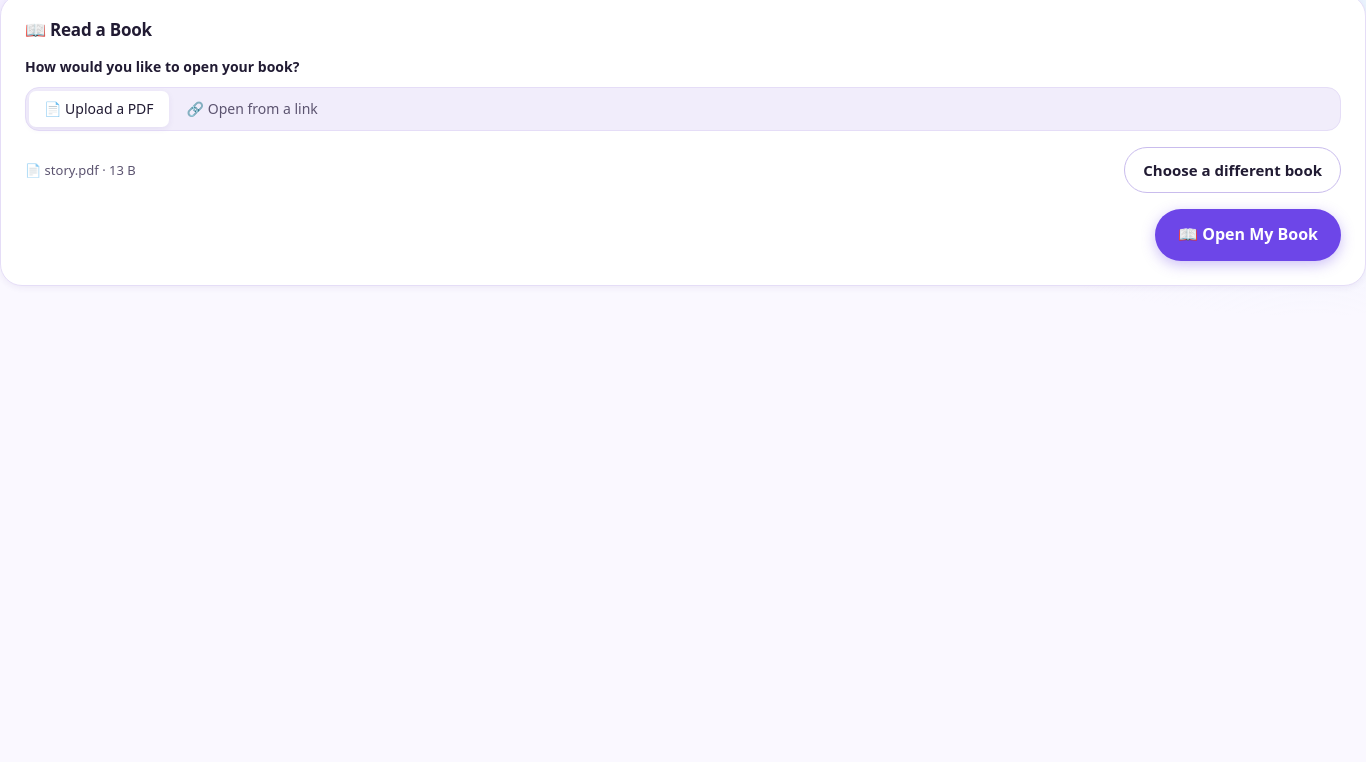
Test: BookReaderForm › narrates the book and shows the playable result
Earlier steps of the test are not shown.
Click the button with test id "load-book-submit" at (1248, 235), box [1155, 209, 1341, 261]
(page scrolled)
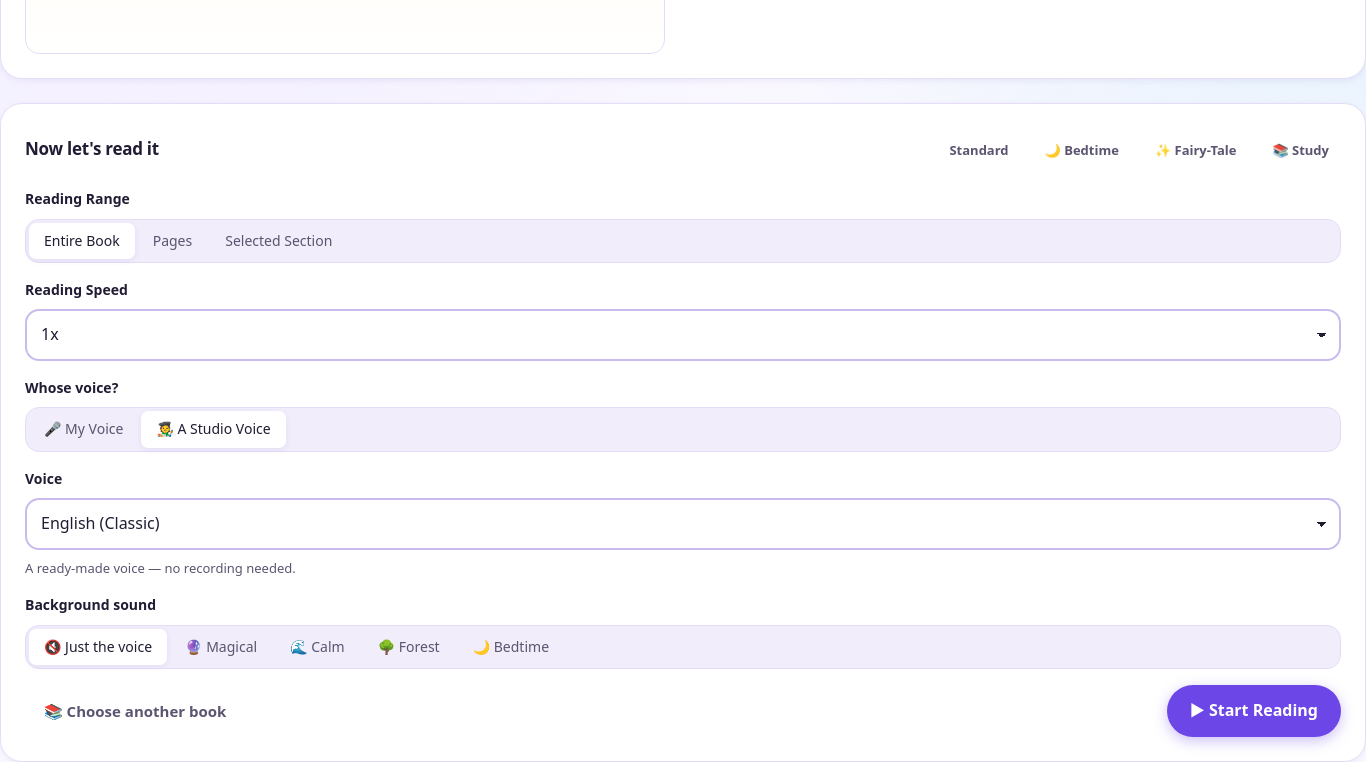
Now the dropdown with test id "default-voice-select" shows "English (Classic)", box [25, 498, 1341, 550]
Click the button with test id "narrate-book-submit" at (1254, 711), box [1167, 685, 1341, 737]
(page scrolled)
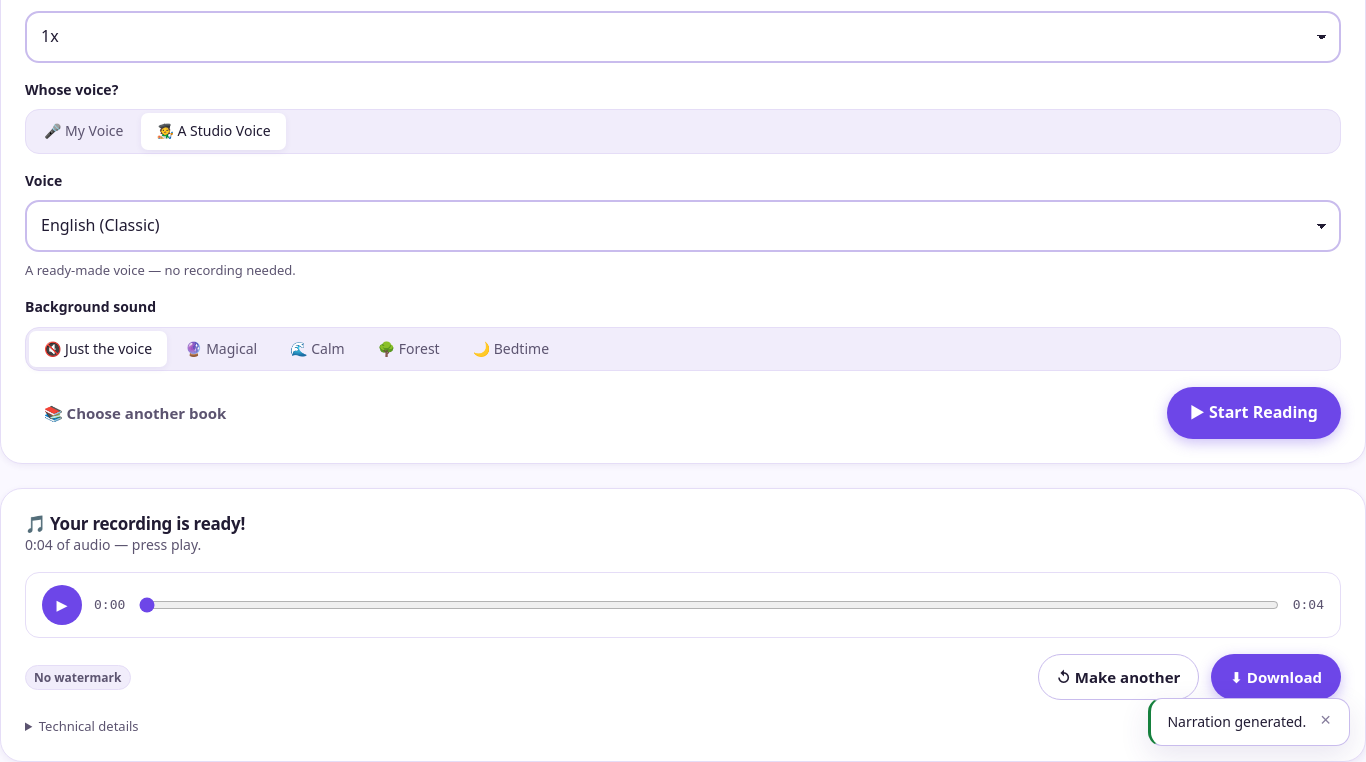
Now the element with test id "generation-result" is shown, box [25, 572, 1341, 737]
Now the element with test id "audio-player" is shown, box [25, 572, 1341, 638]
